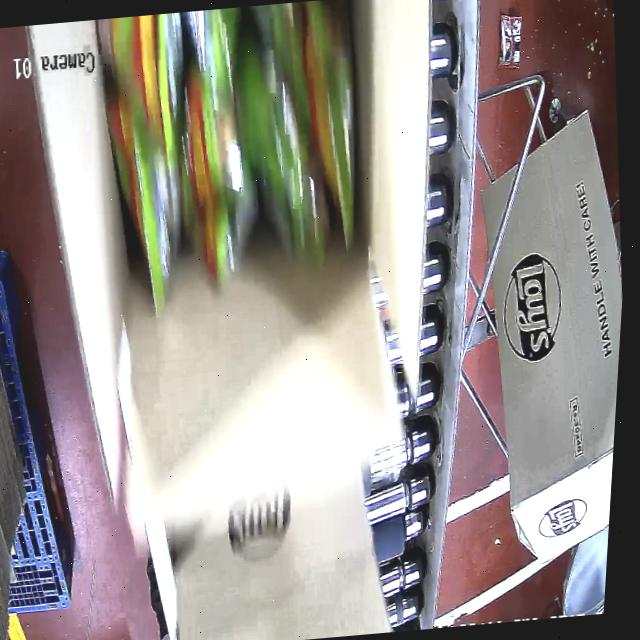YOGURT_HERB: (79, 0, 385, 296)
